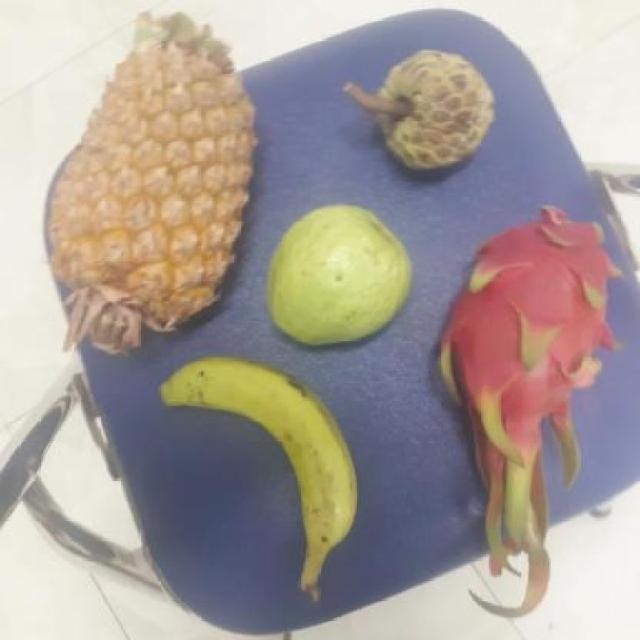banana: (162, 362, 367, 550)
dragon fruit: (437, 211, 621, 463)
guava: (267, 206, 418, 342)
sugar apple: (368, 52, 502, 174)
